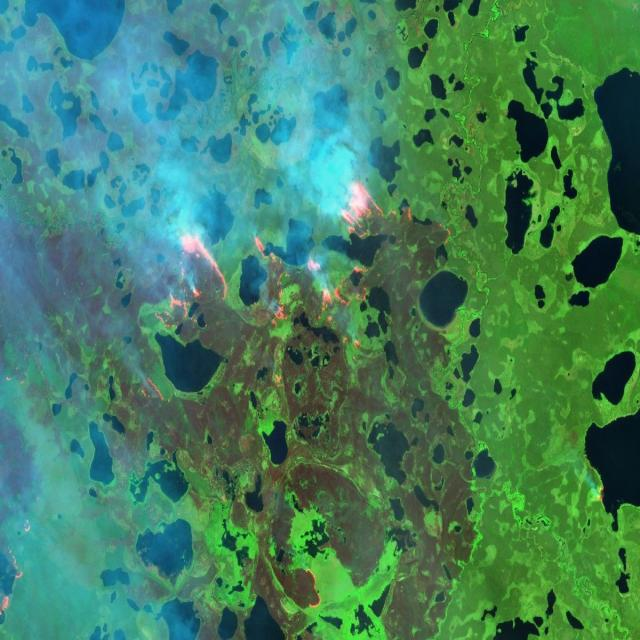fire: (140, 173, 453, 411)
